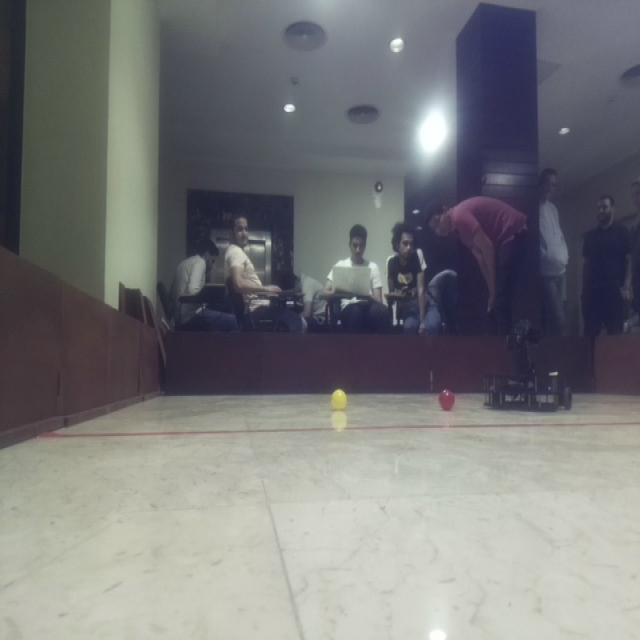ball: (327, 385, 351, 415), (435, 387, 458, 412)
